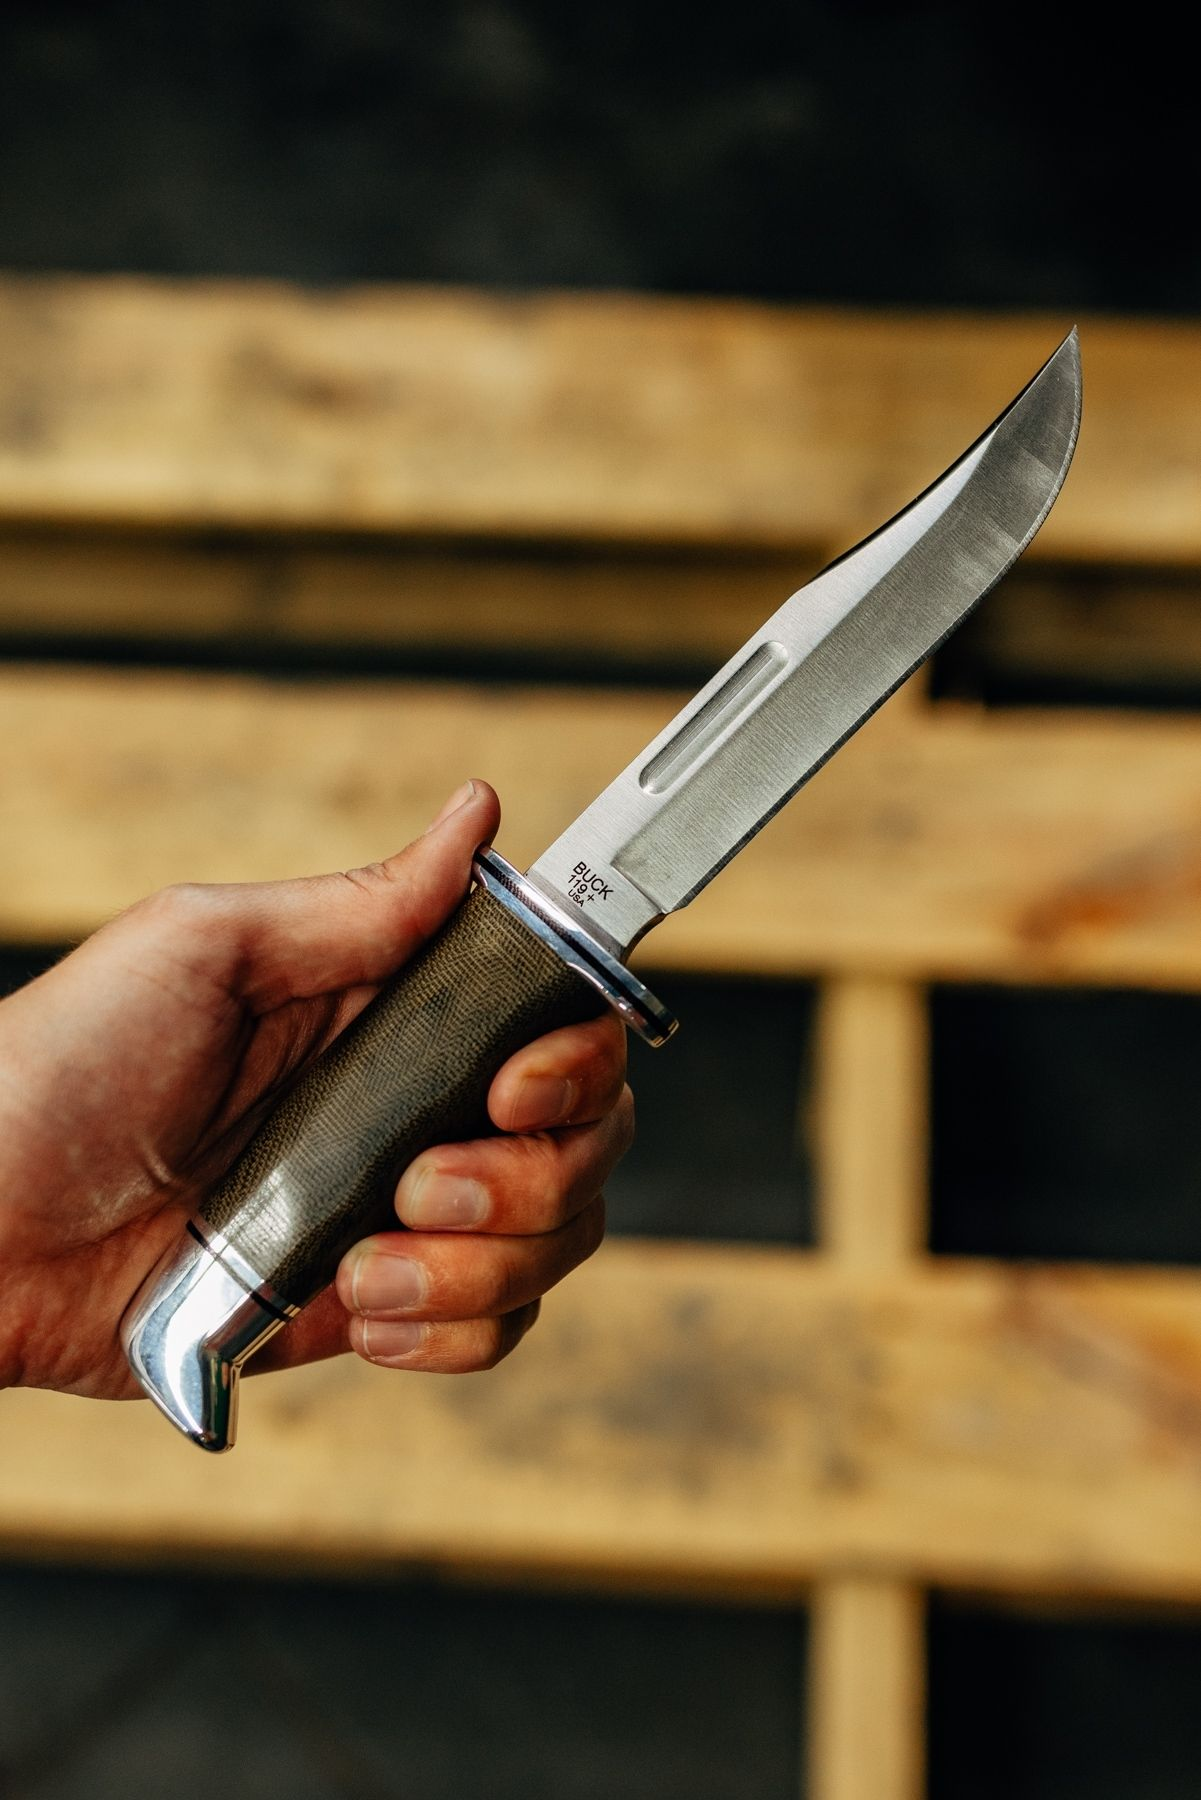knife: (97, 290, 1115, 1468)
